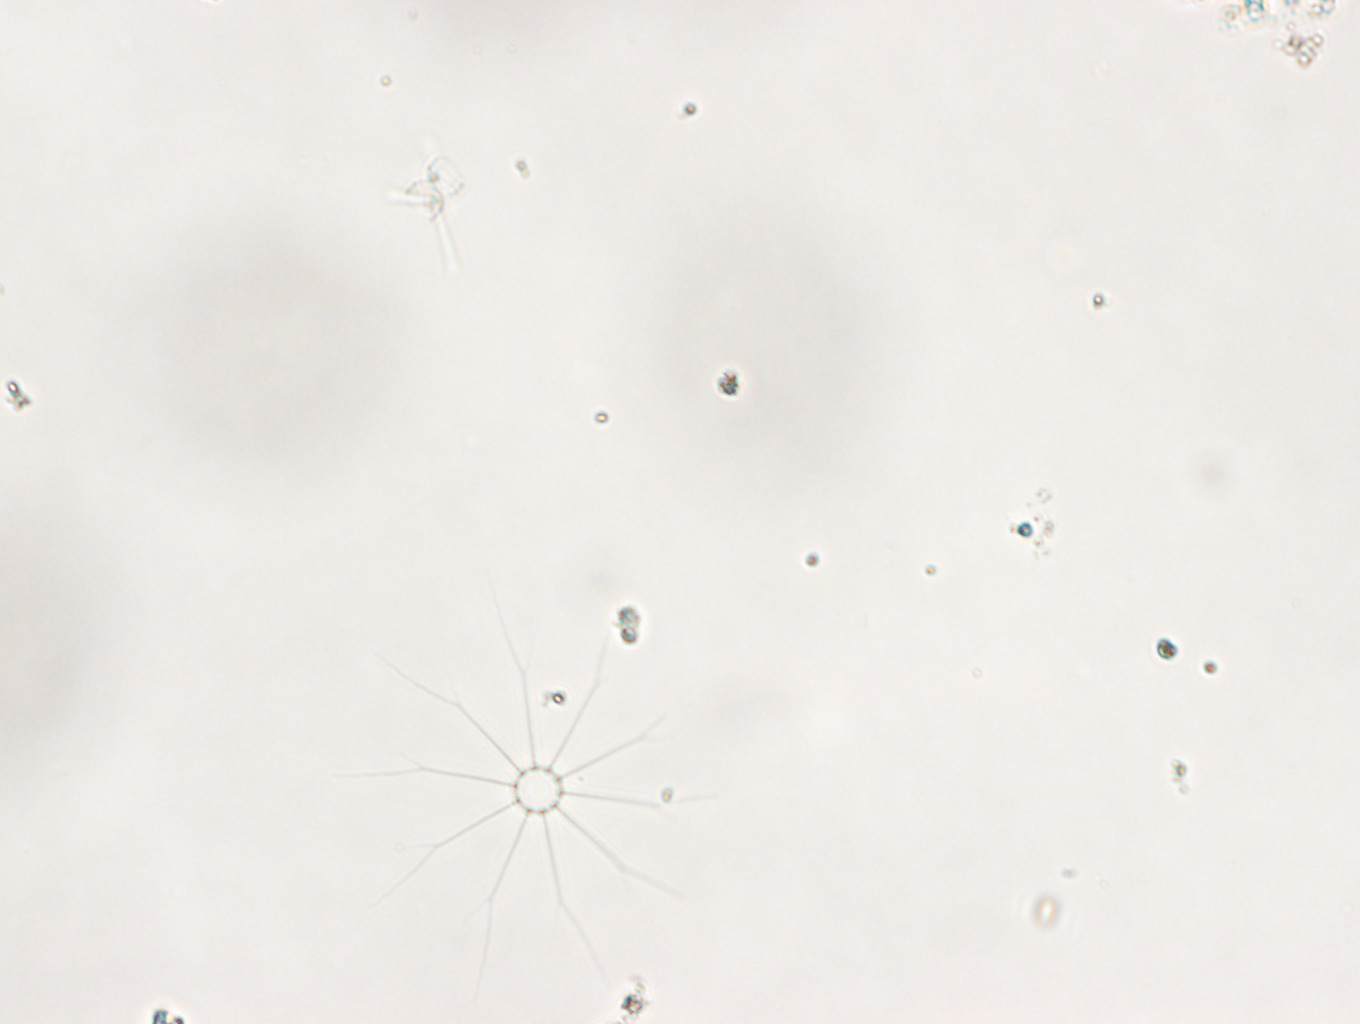bacteriastrum: (343, 597, 721, 956)
